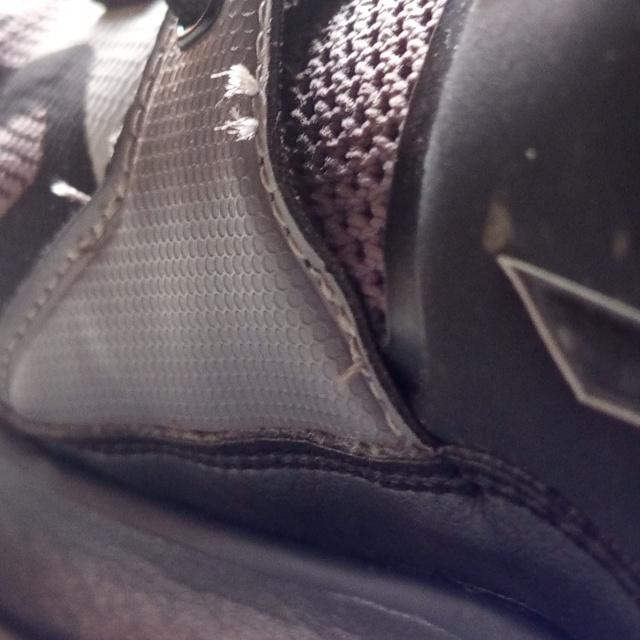broken-error: (200, 55, 276, 150)
